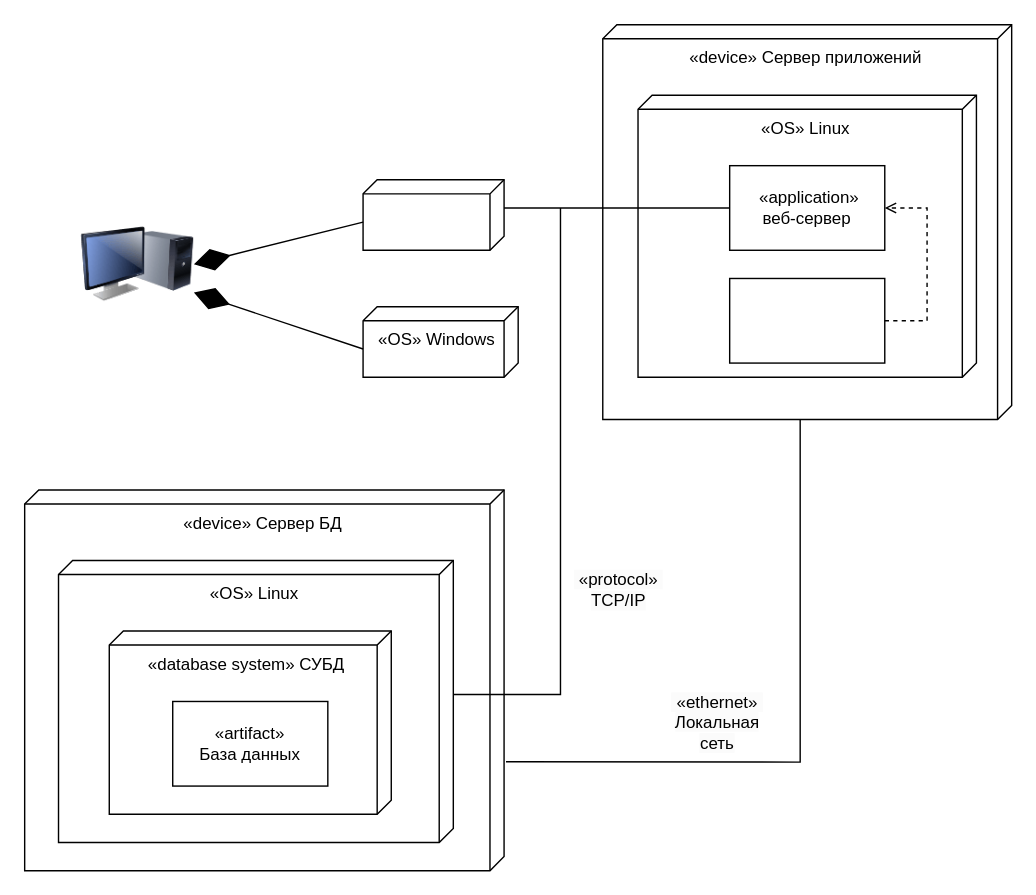
This 1036x895 diagram has some shape labels left out. The shapes that lost their labels are listed below. From the top down, each one's centre as x and y in pixels, then its label:
At (433,214): "Веб-браузер".
At (136,263): "«device» Веб-клиент".
At (806,320): "«Scripts PHP» Библиотека сервисов ДМ".
